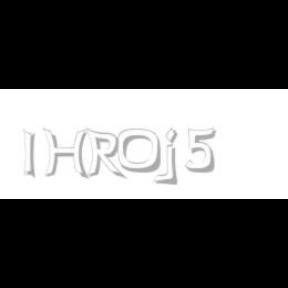5: (184, 128, 216, 174)
H: (42, 128, 88, 180)
I: (24, 128, 36, 180)
O: (118, 128, 162, 174)
R: (85, 128, 123, 180)
j: (162, 128, 192, 186)
